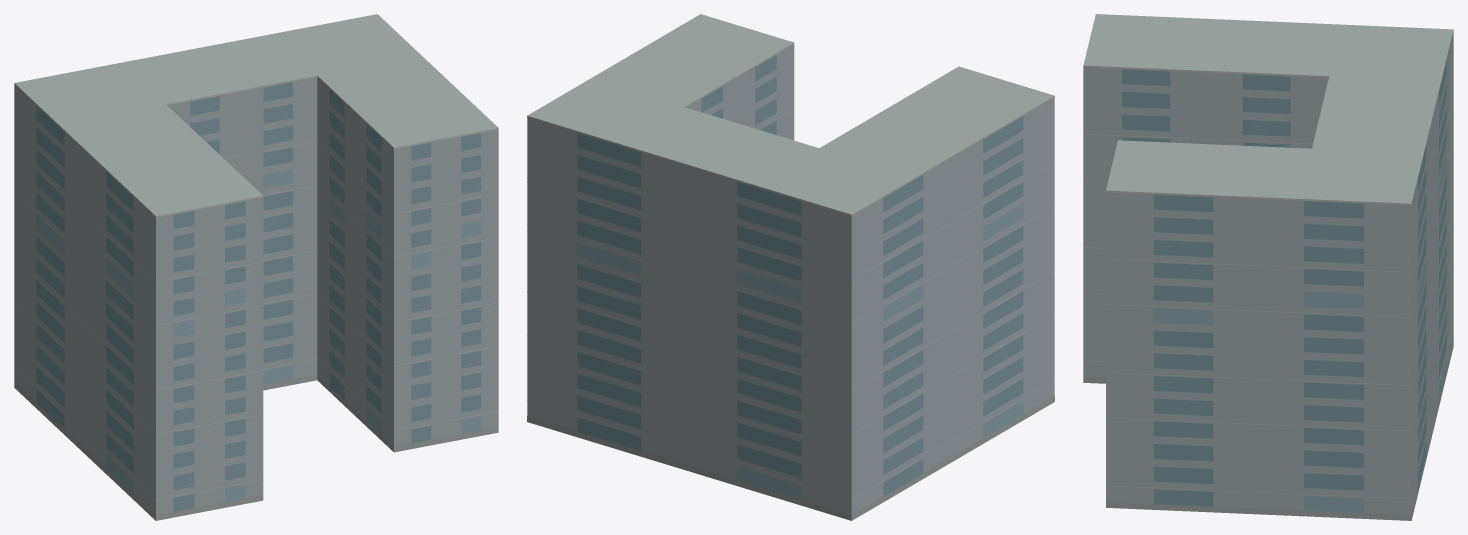
The model's file is residential-fc8419a4-c876-4f44-a86b-214bdd9e657f.glb.
3 views of the same model, side by side, from view 1: azimuth 30°, elevation 25°; view 2: azimuth 150°, elevation 25°; view 3: azimuth 270°, elevation 25° (orthographic). The views are drawn at different scales.
Visible parts, largest first — view 1: residential-fc8419a4-c876-4f44-a86b-214bdd9e657f.tmp; view 2: residential-fc8419a4-c876-4f44-a86b-214bdd9e657f.tmp; view 3: residential-fc8419a4-c876-4f44-a86b-214bdd9e657f.tmp.
Boxes of the visible parts, x1=… form: residential-fc8419a4-c876-4f44-a86b-214bdd9e657f.tmp: x1=14, y1=14, x2=498, y2=520; residential-fc8419a4-c876-4f44-a86b-214bdd9e657f.tmp: x1=527, y1=14, x2=1054, y2=520; residential-fc8419a4-c876-4f44-a86b-214bdd9e657f.tmp: x1=1083, y1=14, x2=1453, y2=520.
Size of the model in its own units: 61.55 by 48 by 50.78.
